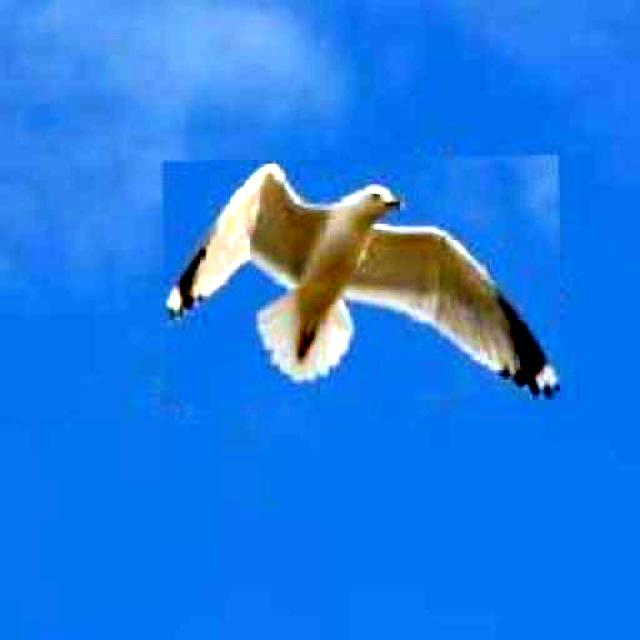airplane: (161, 154, 561, 404)
